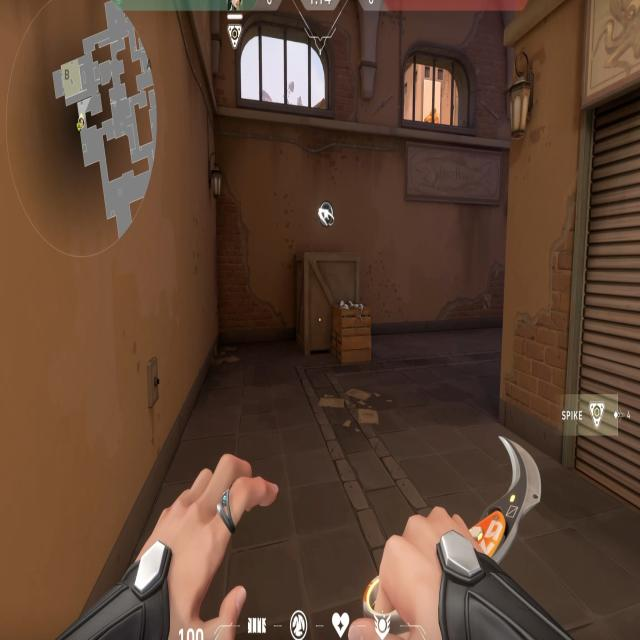B_Main_Wallbang: (289, 189, 383, 396)
Throwables: (232, 10, 342, 144), (399, 35, 484, 152)
